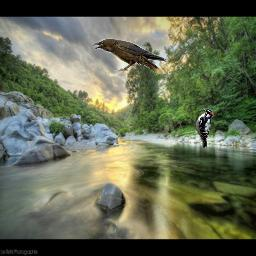Crow: (91, 37, 168, 74)
Woodpecker: (195, 108, 214, 148)
